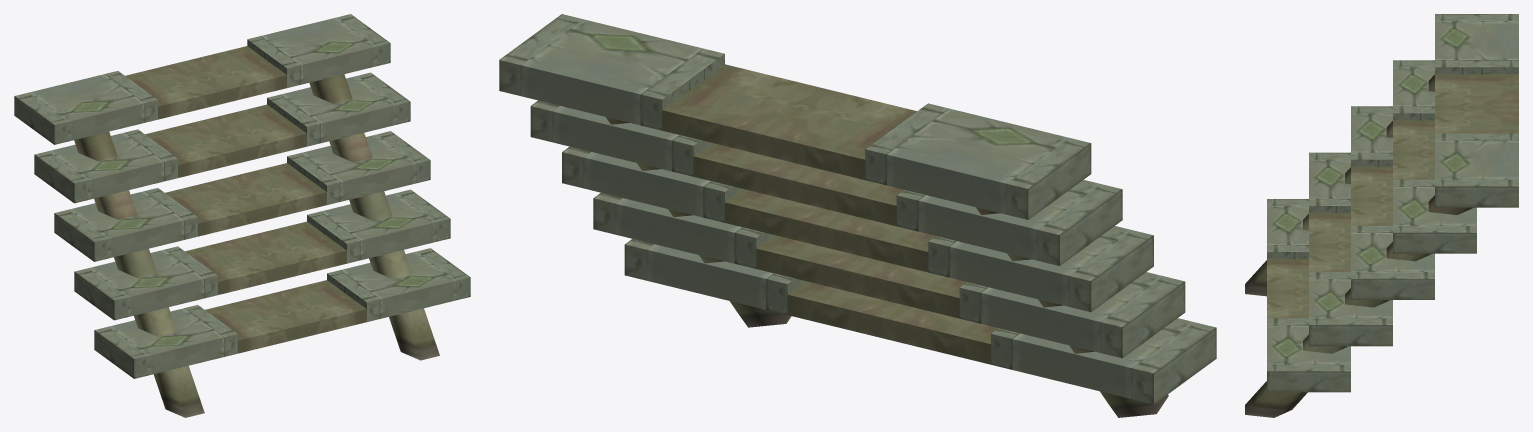
Rendered from stair-01.fbx.
3 renders of one model, left to right at view 1: azimuth 30°, elevation 25°; view 2: azimuth 150°, elevation 25°; view 3: azimuth 270°, elevation 25°, orthographic. The views are drawn at different scales.
Parts seen in each view (by area): view 1: Cube.190; view 2: Cube.190; view 3: Cube.190.
Part boxes in pixels (x1,y1,x2,y2): Cube.190: [14, 14, 470, 417]; Cube.190: [499, 14, 1216, 417]; Cube.190: [1245, 14, 1518, 417].
Bounding box in the file's own units: 1.62 × 1.09 × 1.09.
